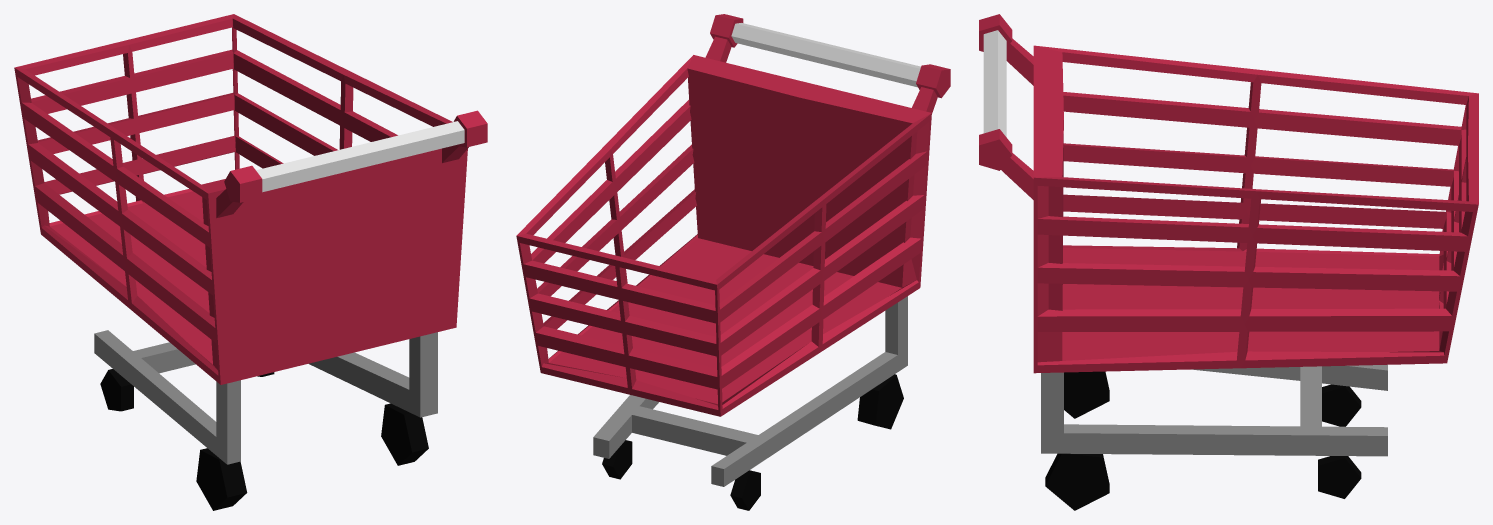
File: carrito1.fbx
The picture shows the model from 3 angles, left to right: view 1: azimuth 30°, elevation 25°; view 2: azimuth 150°, elevation 25°; view 3: azimuth 270°, elevation 25°; orthographic projection. The views are drawn at different scales.
Parts seen in each view (by area): view 1: Carro Medio; view 2: Carro Medio; view 3: Carro Medio.
Boxes of the visible parts, left/top/right/bottom form: Carro Medio: left=14, top=14, right=487, bottom=510; Carro Medio: left=516, top=14, right=950, bottom=510; Carro Medio: left=979, top=14, right=1478, bottom=510.
Bounding box in the file's own units: 0.6828 × 0.928 × 1.09.
